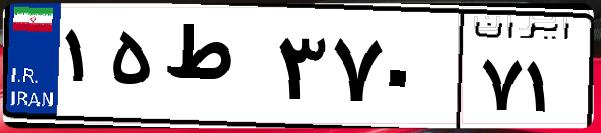0: (385, 28, 445, 110)
1: (57, 26, 110, 100), (525, 38, 570, 115)
3: (270, 28, 330, 110)
5: (110, 28, 158, 98)
7: (330, 28, 385, 110), (475, 38, 525, 113)
ط: (158, 20, 270, 120)
